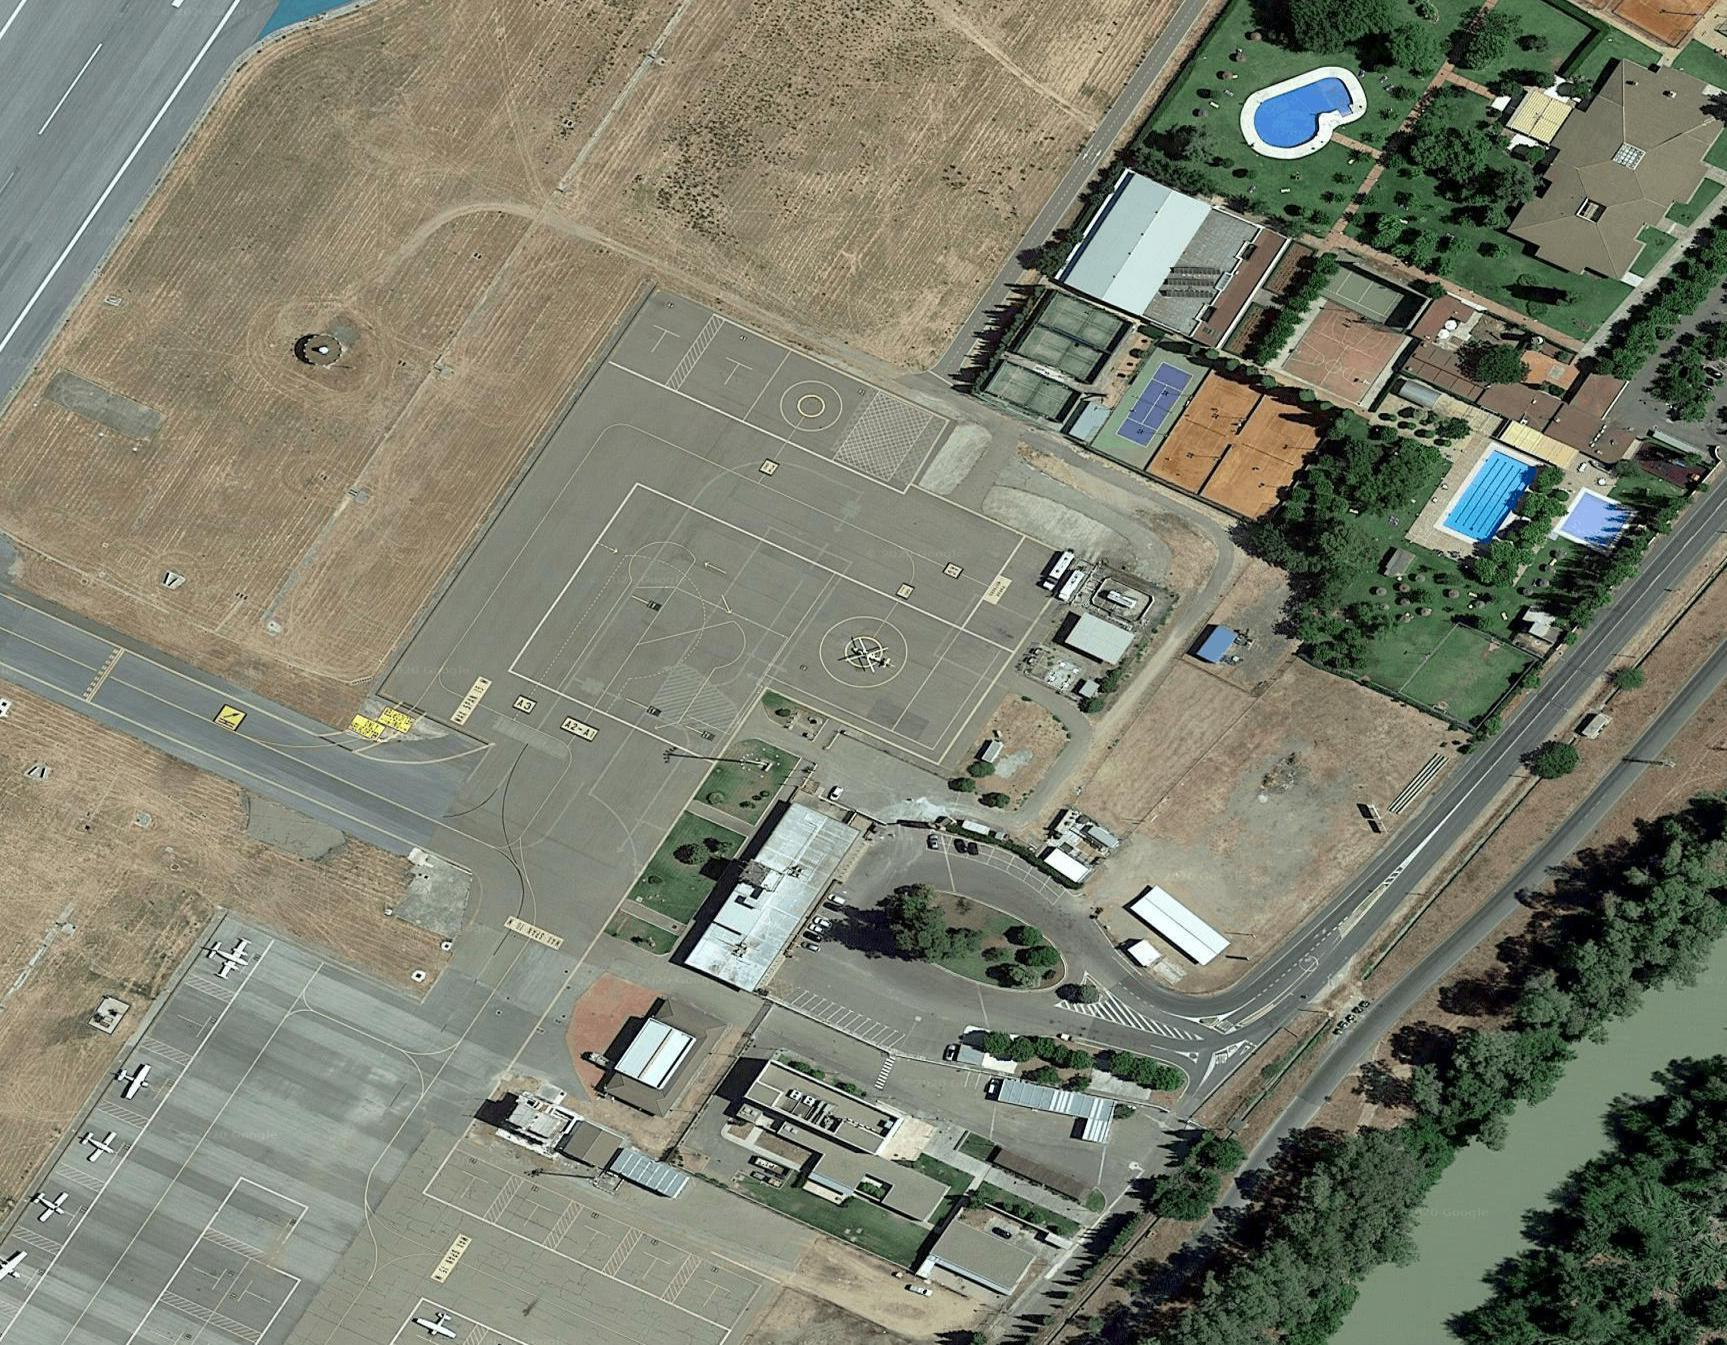helicopter: (847, 640, 890, 669)
helipad: (758, 369, 862, 436), (817, 619, 920, 686)
plane: (69, 1118, 133, 1174), (109, 1055, 163, 1109), (200, 933, 254, 987), (28, 1181, 81, 1231), (1, 1241, 34, 1290)
swimming-pool: (1234, 58, 1370, 168), (1435, 439, 1542, 548)
